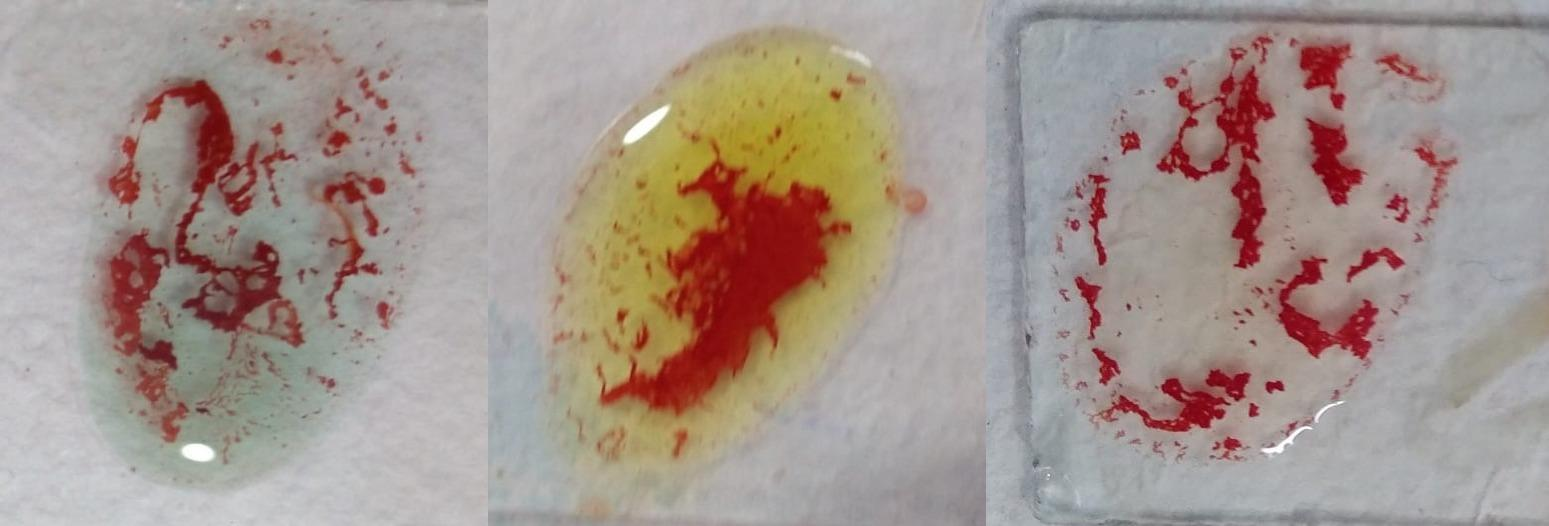A: (70, 30, 392, 494)
B: (547, 32, 894, 469)
D: (1065, 24, 1437, 472)
